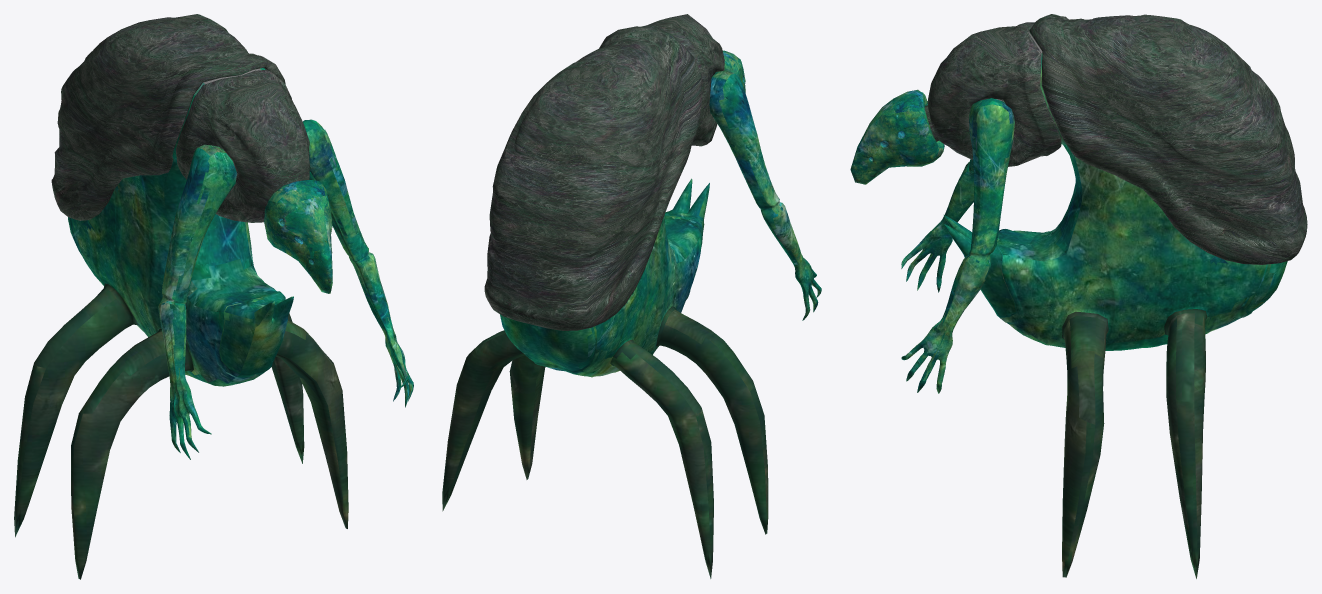
Rendered from Andar.0001.obj.
The picture shows the model from 3 angles, left to right: view 1: azimuth 30°, elevation 25°; view 2: azimuth 150°, elevation 25°; view 3: azimuth 270°, elevation 25°; orthographic projection. The views are drawn at different scales.
Parts seen in each view (by area): view 1: pCube14; view 2: pCube14; view 3: pCube14.
Boxes of the visible parts, x1=… form: pCube14: x1=14, y1=14, x2=413, y2=579; pCube14: x1=442, y1=14, x2=821, y2=578; pCube14: x1=850, y1=14, x2=1307, y2=578.
Bounding box in the file's own units: 2.33 × 3.9 × 3.26.
5 materials, 4 textured.
